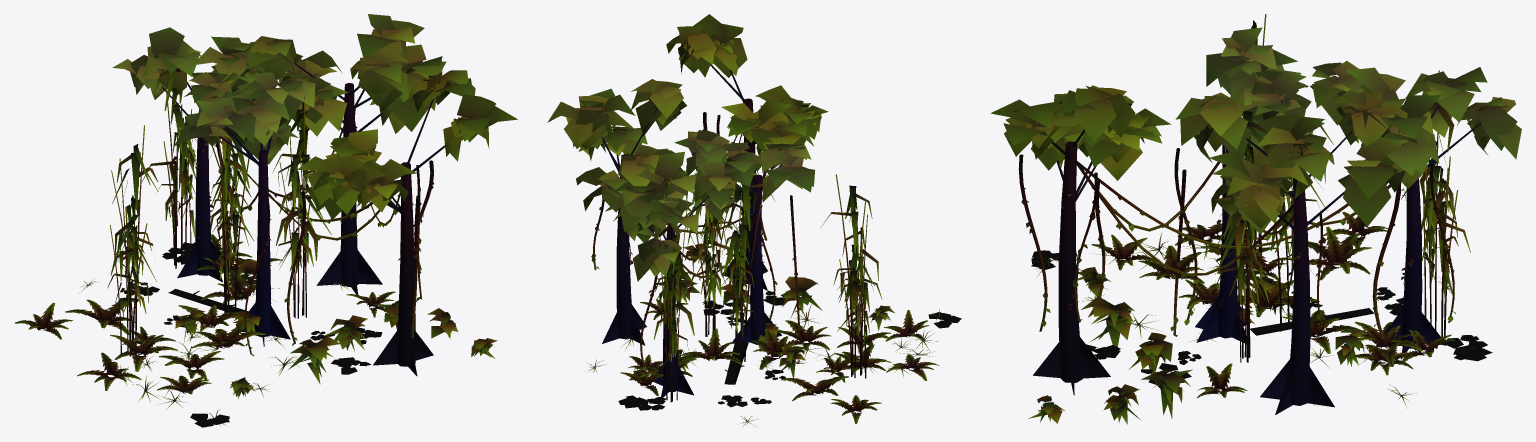
The model's file is patch_canopy.glb.
3 renders of one model, left to right at view 1: azimuth 30°, elevation 25°; view 2: azimuth 150°, elevation 25°; view 3: azimuth 270°, elevation 25°, orthographic. The views are drawn at different scales.
Visible parts, largest first — view 1: patch_canopy; view 2: patch_canopy; view 3: patch_canopy.
Part boxes in pixels (x1,y1,x2,y2): patch_canopy: (15,14,517,427); patch_canopy: (547,14,961,427); patch_canopy: (990,14,1521,424).
Size of the model in its own units: 17.36 by 12.42 by 17.69.
Materials: 1 (1 with a texture image).
